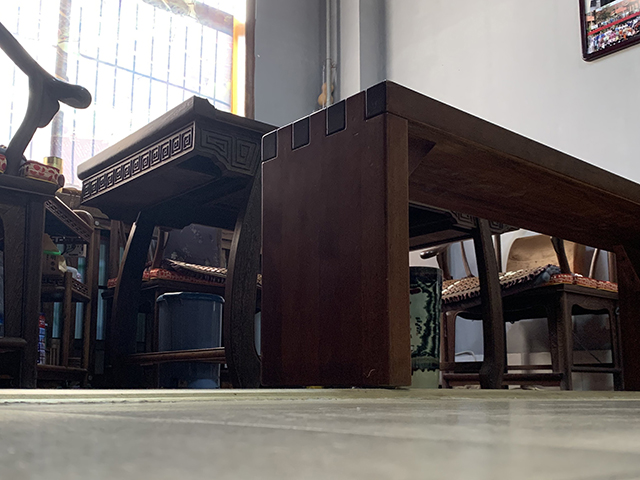stool: (419, 229, 628, 392)
table: (76, 96, 519, 390), (257, 79, 640, 392)
trashcan: (155, 290, 224, 391)
